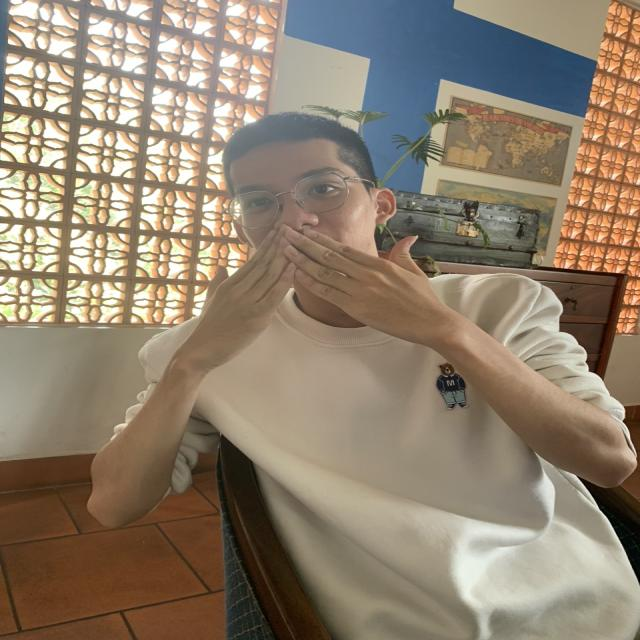thanks: (177, 179, 446, 415)
